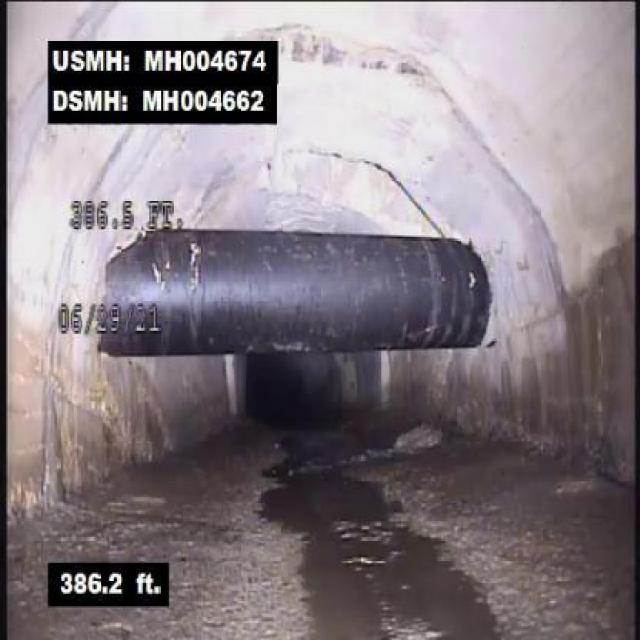Utility intrusion: (90, 222, 496, 360)
